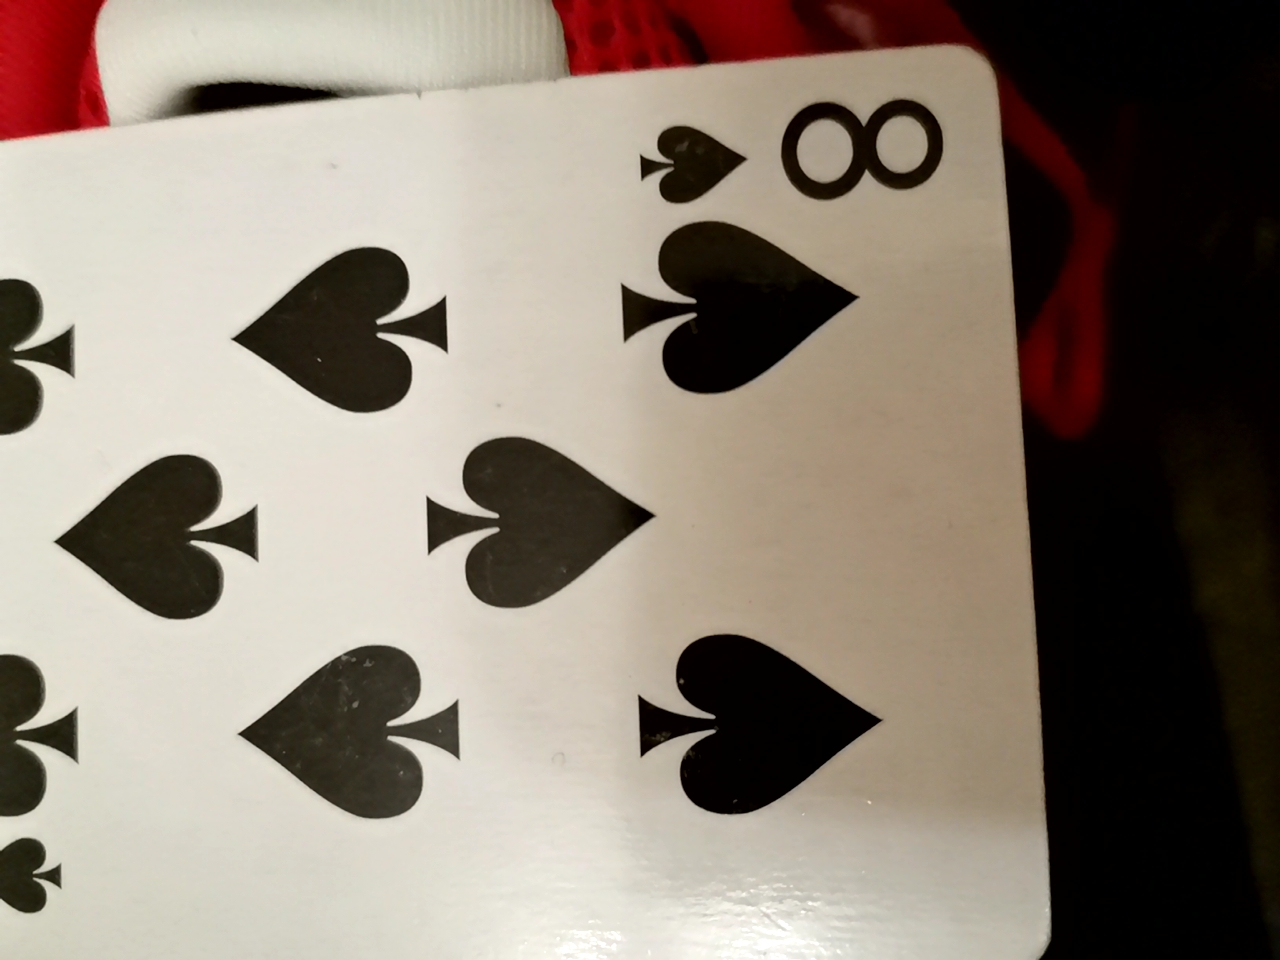ht 8: (3, 50, 1046, 960)
